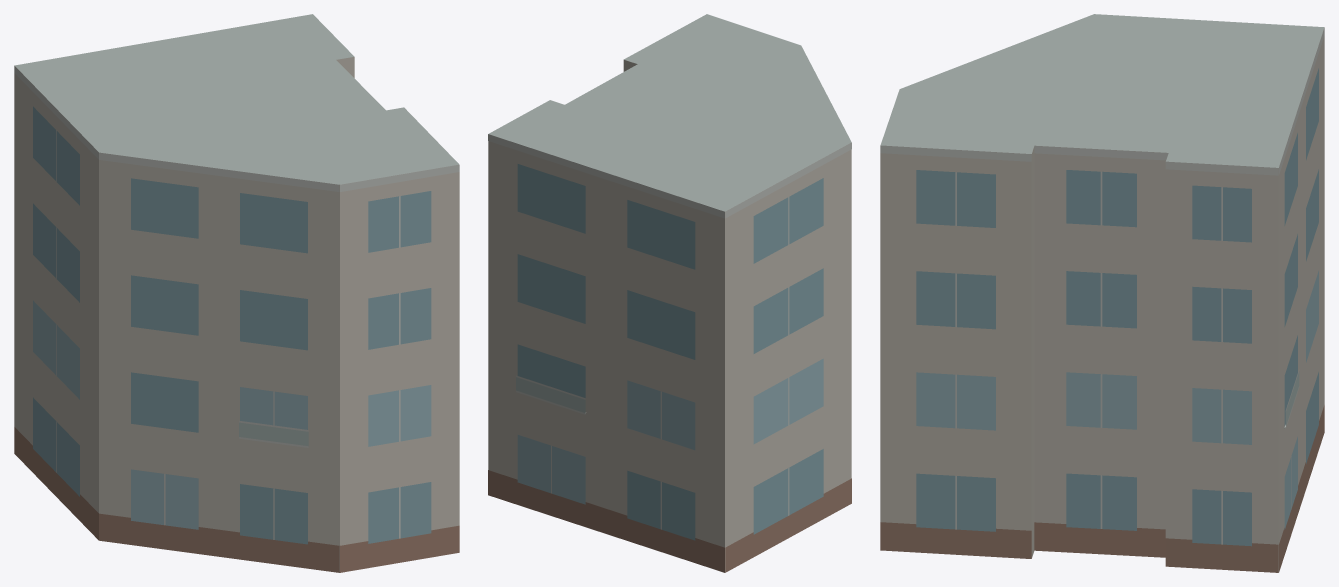
Rendered from survey-upis-32642778.glb.
The picture shows the model from 3 angles, left to right: view 1: azimuth 30°, elevation 25°; view 2: azimuth 150°, elevation 25°; view 3: azimuth 270°, elevation 25°; orthographic projection. The views are drawn at different scales.
Parts seen in each view (by area): view 1: survey-upis-32642778.tmp; view 2: survey-upis-32642778.tmp; view 3: survey-upis-32642778.tmp.
Boxes of the visible parts, <box> form: survey-upis-32642778.tmp: <box>14,14,459,572</box>; survey-upis-32642778.tmp: <box>488,14,851,572</box>; survey-upis-32642778.tmp: <box>880,14,1324,572</box>.
Size of the model in its own units: 10.44 by 12.8 by 12.74.
